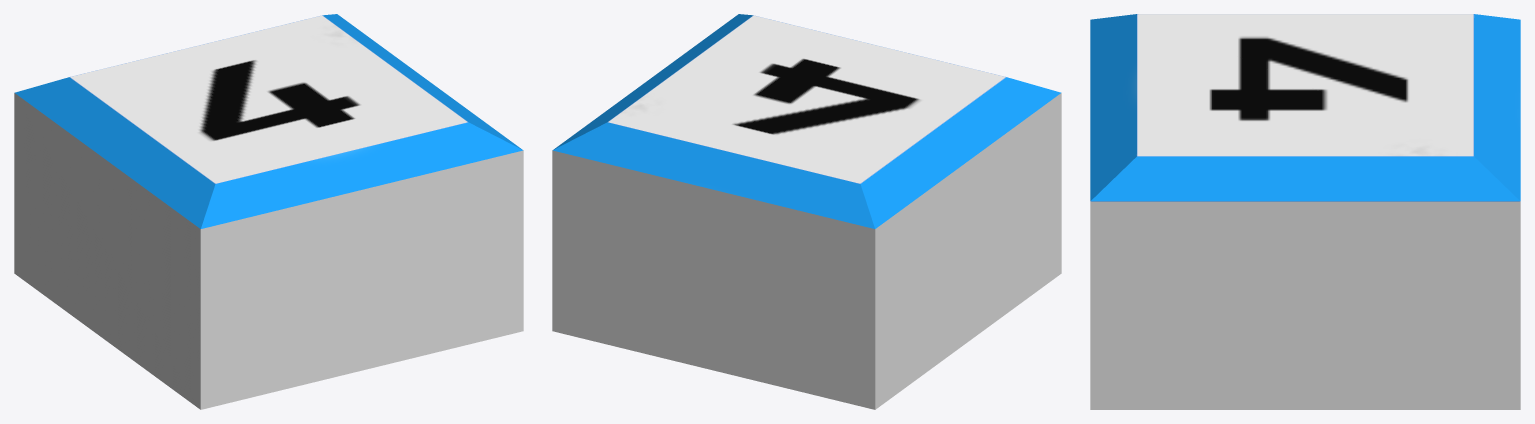
3 views of the same model, side by side, from view 1: azimuth 30°, elevation 25°; view 2: azimuth 150°, elevation 25°; view 3: azimuth 270°, elevation 25° (orthographic). The views are drawn at different scales.
Parts seen in each view (by area): view 1: button.003; view 2: button.003; view 3: button.003.
Part boxes in pixels (box(x1,y1,x2,y2)): button.003: box(14, 14, 523, 409); button.003: box(552, 14, 1061, 409); button.003: box(1090, 14, 1520, 409).
Bounding box in the file's own units: 20 × 12 × 20.
